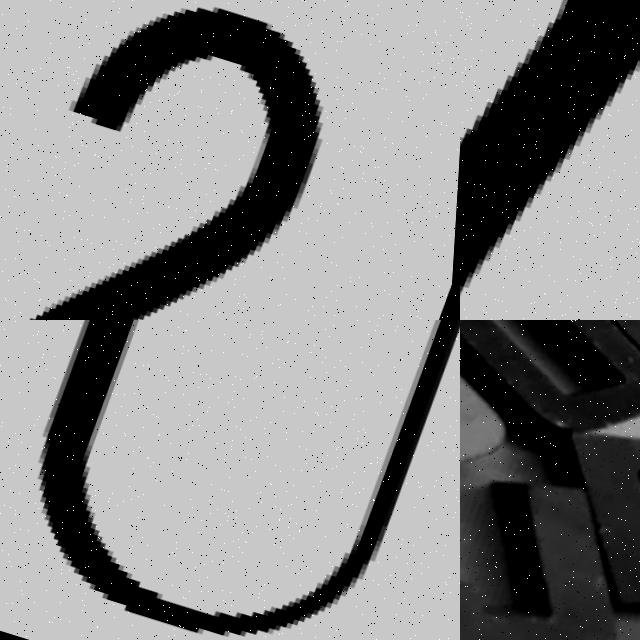2: (0, 0, 363, 320)
E: (481, 379, 640, 640)
J: (460, 436, 640, 640)
K: (470, 320, 640, 402)
L: (460, 0, 640, 320)
U: (0, 320, 460, 640), (460, 320, 640, 479)
